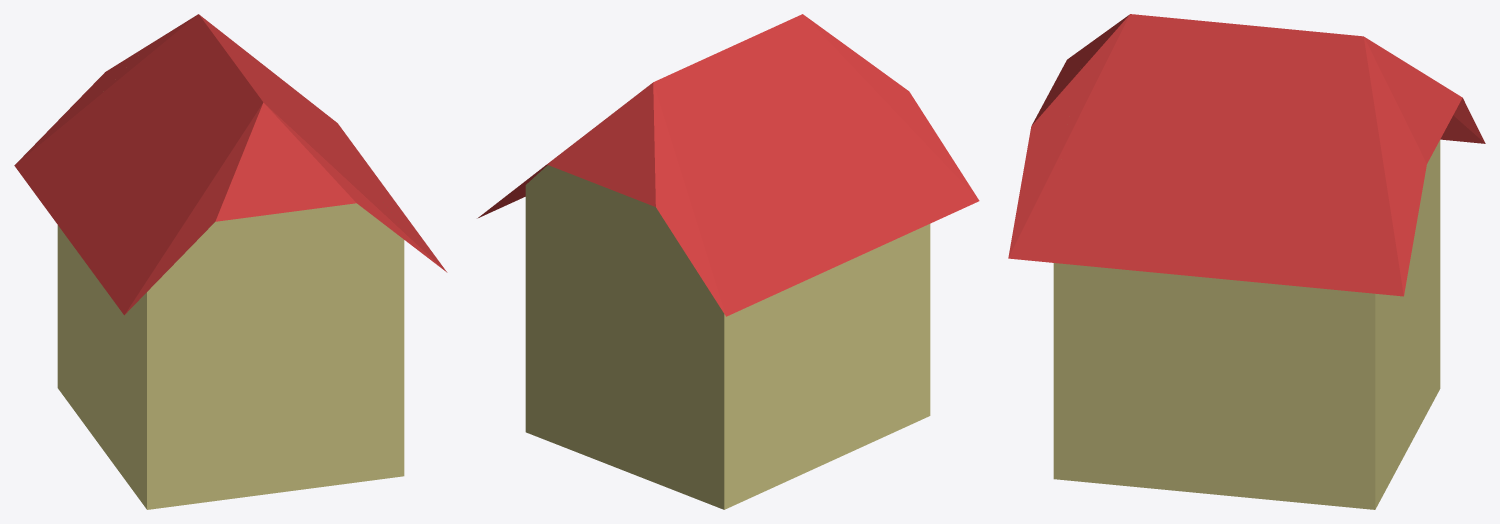
3 renders of one model, left to right at view 1: azimuth 30°, elevation 25°; view 2: azimuth 150°, elevation 25°; view 3: azimuth 270°, elevation 25°, orthographic. The views are drawn at different scales.
Visible parts, largest first — view 1: group_5, group_3, group_4; view 2: group_5, group_3, group_4; view 3: group_5, group_3, group_4.
Part boxes in pixels (x1,y1,x2,y2): group_5: (57,203,404,509); group_3: (14,14,403,314); group_4: (14,46,447,314); group_5: (525,165,930,509); group_3: (477,14,979,316); group_4: (481,56,978,316); group_5: (1053,140,1440,509); group_3: (1018,14,1485,296); group_4: (1008,39,1485,296).
Bounding box in the file's own units: 11.88 × 12.58 × 11.89.
